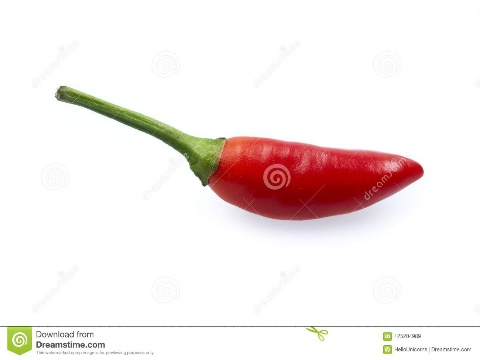Chilli: (52, 78, 440, 229)
